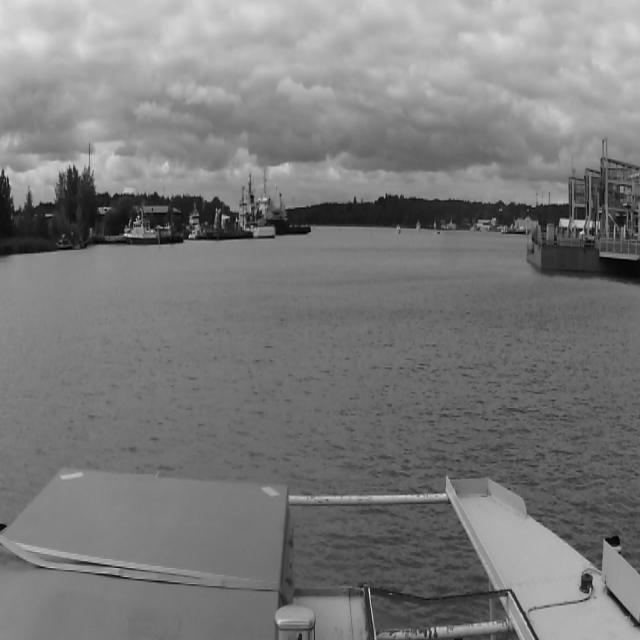ship: (237, 172, 276, 238), (122, 216, 158, 246), (396, 224, 401, 235), (416, 220, 420, 233), (437, 231, 440, 235)
